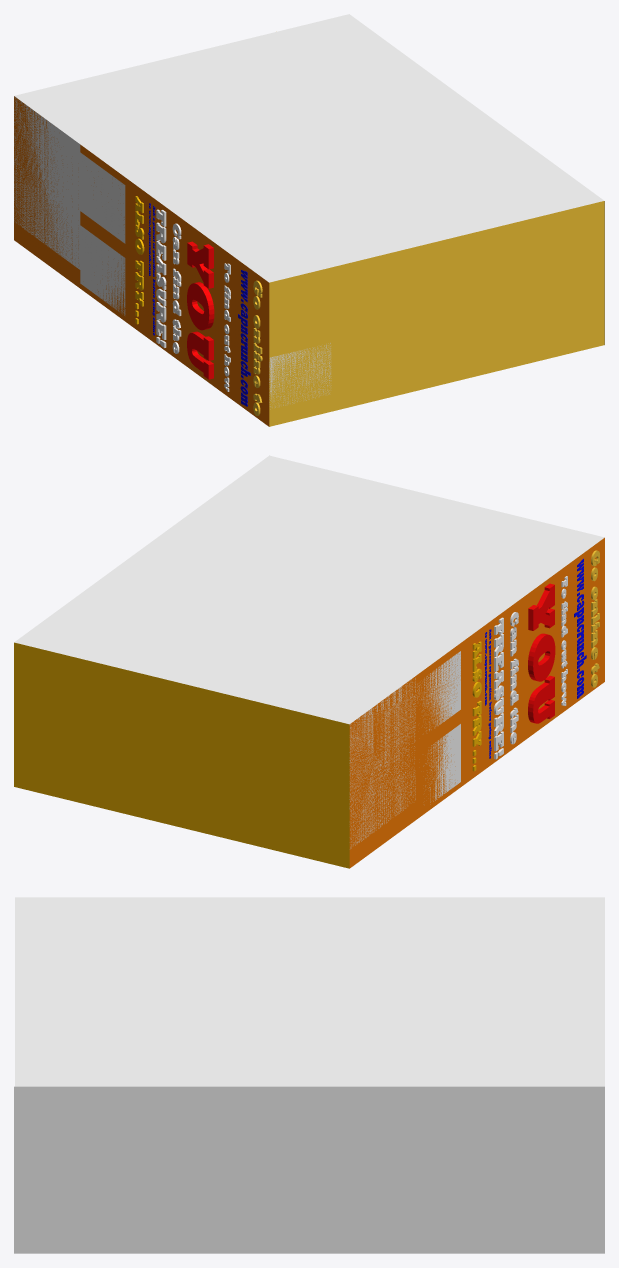
The picture shows the model from 3 angles, top to bottom: view 1: azimuth 30°, elevation 25°; view 2: azimuth 150°, elevation 25°; view 3: azimuth 270°, elevation 25°; orthographic projection. The views are drawn at different scales.
Parts seen in each view (by area): view 1: cereal box; view 2: cereal box; view 3: cereal box.
Part boxes in pixels (x1,y1,x2,y2): cereal box: (14, 14, 604, 426); cereal box: (14, 455, 604, 868); cereal box: (14, 897, 604, 1253).
Bounding box in the file's own units: 10.89 × 4.41 × 14.15.
